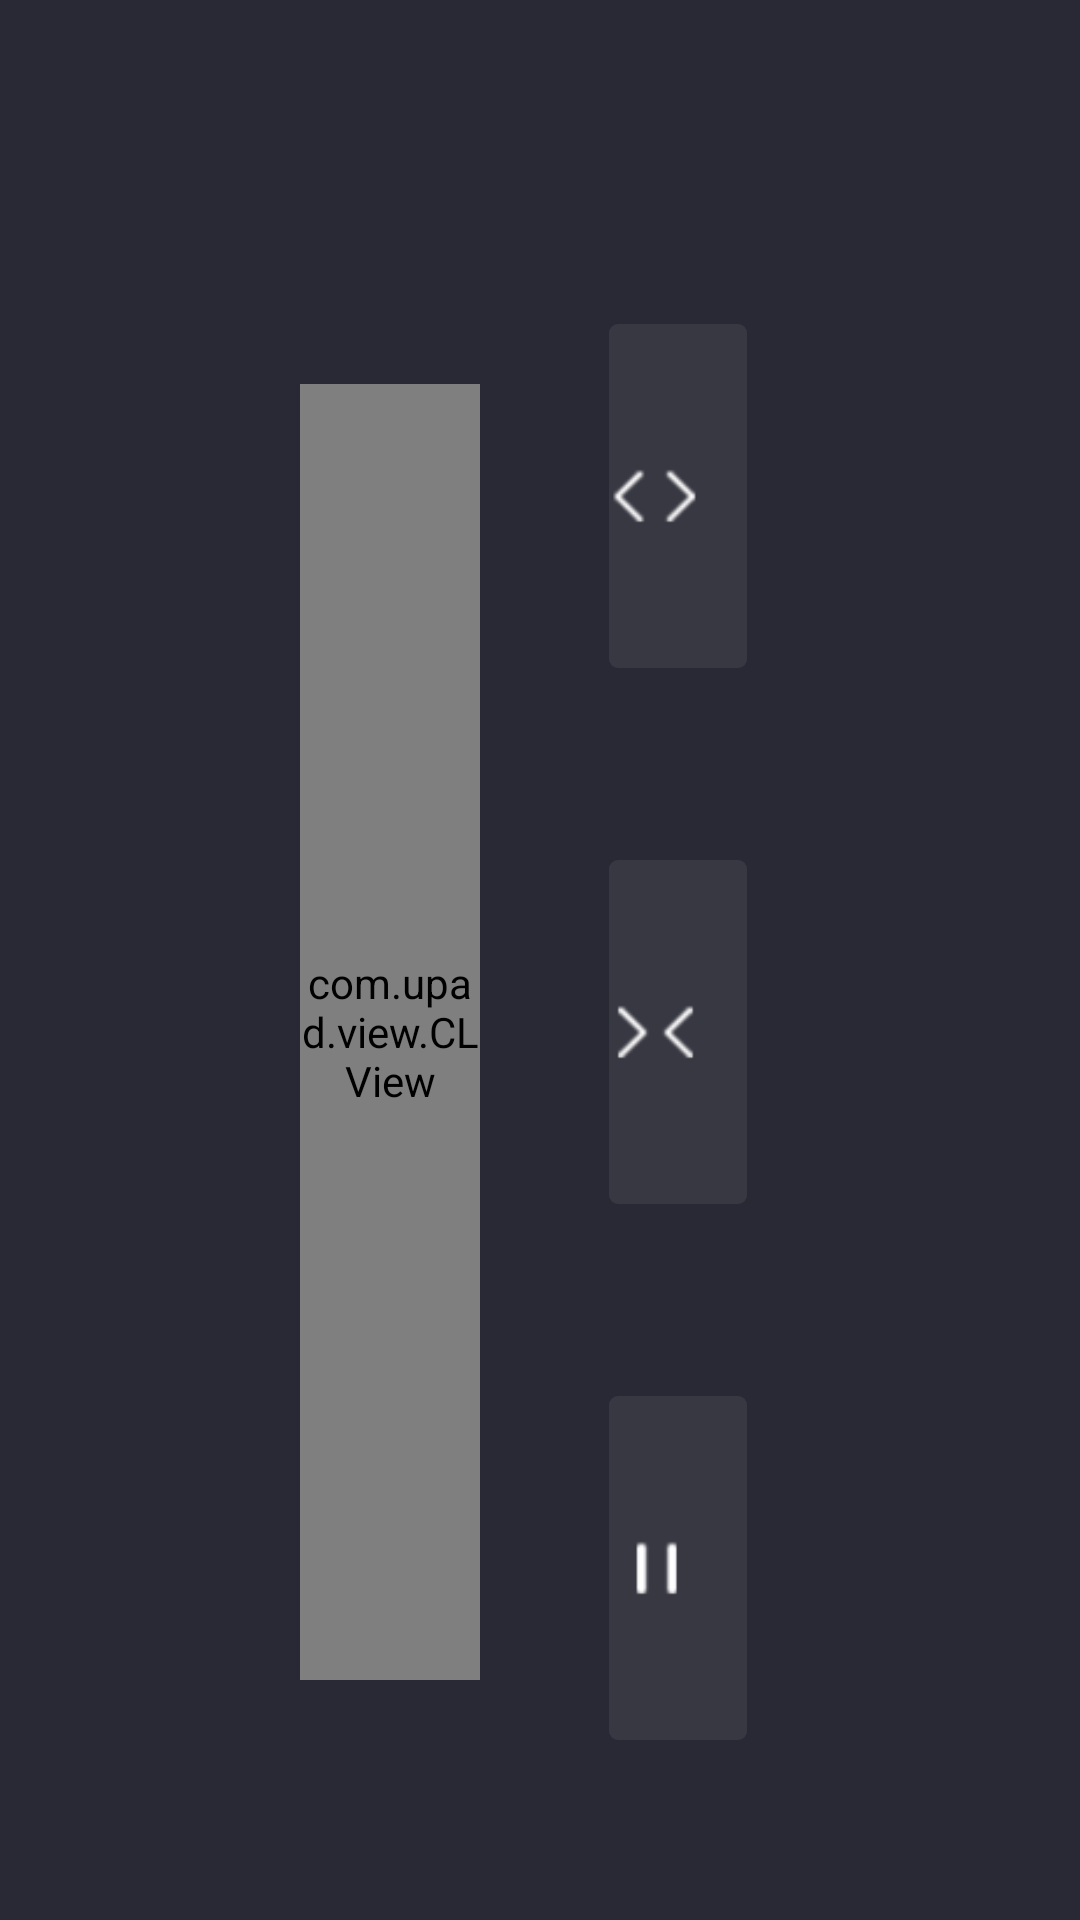

Where to tap for icons on this 1080*1920 app screen, as [x,y]:
press cl pause: [656,1568]
